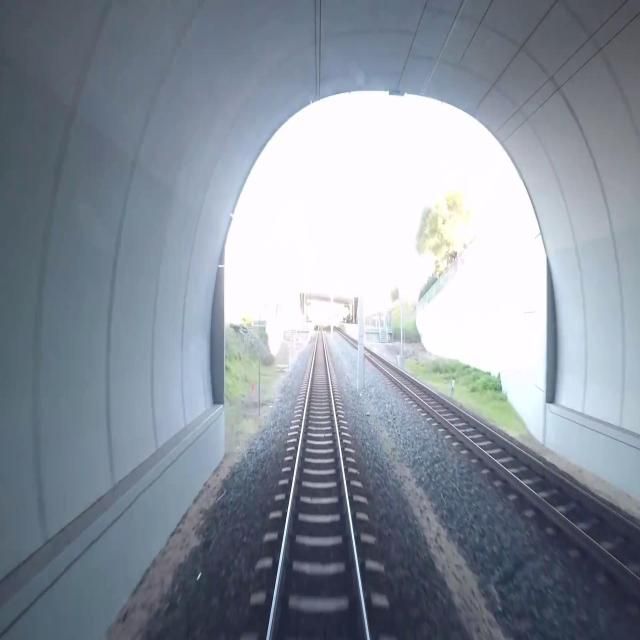rail-track: (364, 349, 640, 573), (270, 328, 365, 639)
